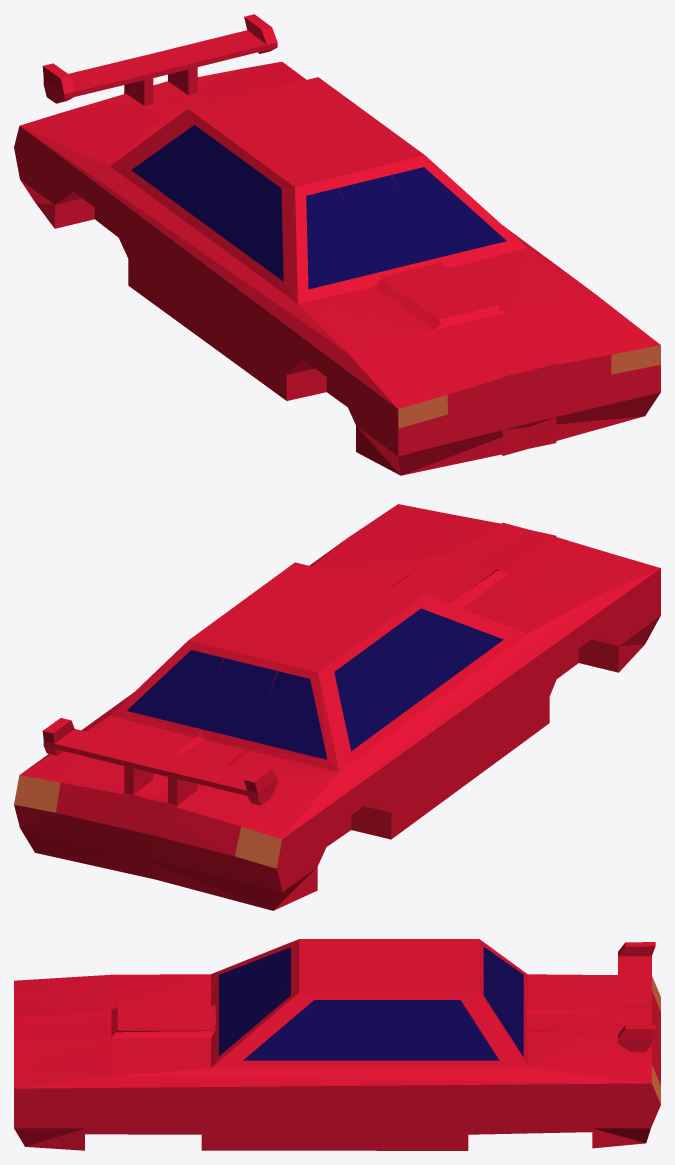
The model's file is car.glb.
3 renders of one model, top to bottom at view 1: azimuth 30°, elevation 25°; view 2: azimuth 150°, elevation 25°; view 3: azimuth 270°, elevation 25°, orthographic. The views are drawn at different scales.
Parts seen in each view (by area): view 1: Car; view 2: Car; view 3: Car.
Boxes of the visible parts, bbox=[...] form: Car: bbox=[14, 14, 660, 475]; Car: bbox=[14, 504, 660, 910]; Car: bbox=[14, 939, 660, 1150].
Bounding box in the file's own units: 1.4 × 0.7952 × 3.55.
